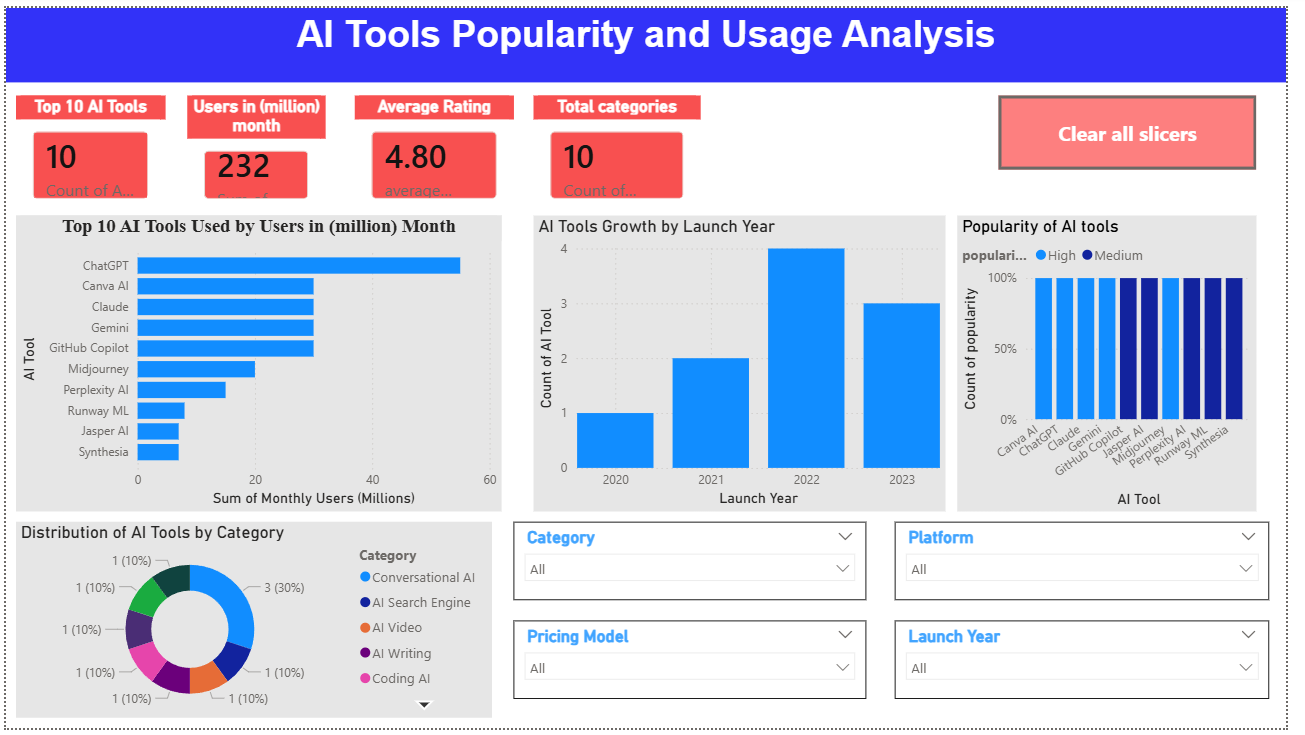

Layout of this report page (visuals, bound fields, positions):
{"tool":"powerbi","page":{"name":"Page 1","canvas":[1280,720],"ordinal":0},"visuals":[{"type":"textbox","box":[0,0,1280.3,74.1],"z":0},{"type":"cardVisual","title":"Top 10 AI Tools ","fields":{"Data":["CountNonNull(AI Tools Dataset.AI Tool)"]},"box":[9.6,87.8,149.6,120.8],"z":1000},{"type":"cardVisual","title":"Users in (million) month","fields":{"Data":["Sum(AI Tools Dataset.Monthly Users (Millions))"]},"box":[181.1,87.8,138.6,120.8],"z":2000},{"type":"cardVisual","title":"Average Rating","fields":{"Data":["AI Tools Dataset.average rating"]},"box":[348.5,87.8,159.2,120.8],"z":3000},{"type":"cardVisual","title":"Total categories","fields":{"Data":["CountNonNull(AI Tools Dataset.Category)"]},"box":[526.9,87.8,167.4,120.8],"z":4000},{"type":"clusteredBarChart","title":"Top 10 AI Tools Used by Users in (million) Month","fields":{"Category":["AI Tools Dataset.AI Tool"],"Y":["Sum(AI Tools Dataset.Monthly Users (Millions))"]},"box":[9.6,207.2,485.8,296.4],"z":5000},{"type":"donutChart","title":"Distribution of AI Tools by Category","fields":{"Category":["AI Tools Dataset.Category"],"Y":["CountNonNull(AI Tools Dataset.AI Tool)"]},"box":[9.6,513.2,476.2,196.2],"z":6000},{"type":"slicer","fields":{"Values":["AI Tools Dataset.Category"]},"box":[507.7,513.2,352.7,78.2],"z":6001},{"type":"slicer","fields":{"Values":["AI Tools Dataset.Platform"]},"box":[889.2,513.2,374.6,78.2],"z":6002},{"type":"slicer","fields":{"Values":["AI Tools Dataset.Pricing Model"]},"box":[507.7,612,352.7,78.2],"z":6003},{"type":"slicer","fields":{"Values":["AI Tools Dataset.Launch Year"]},"box":[889.2,612,374.6,78.2],"z":6004},{"type":"clusteredColumnChart","title":"AI Tools Growth by Launch Year","fields":{"Category":["AI Tools Dataset.Launch Year"],"Y":["CountNonNull(AI Tools Dataset.AI Tool)"]},"box":[526.9,207.2,411.7,296.4],"z":6005},{"type":"actionButton","box":[992.1,87.8,258,74.1],"z":6006},{"type":"hundredPercentStackedColumnChart","title":"Popularity of AI tools","fields":{"Y":["CountNonNull(AI Tools Dataset.popularity )"],"Category":["AI Tools Dataset.AI Tool"],"Series":["AI Tools Dataset.popularity "]},"box":[950.9,207.2,299.1,296.4],"z":6007}]}

Visuals, with their boxes in screenshot pixels (x1, y1, x2, y2), scaled from the page's 1280x720 canvas onto the 1305x735 screenshot:
textbox: locate(0, 0, 1304, 76)
"Top 10 AI Tools " cardVisual: locate(10, 90, 162, 213)
"Users in (million) month" cardVisual: locate(185, 90, 326, 213)
"Average Rating" cardVisual: locate(355, 90, 518, 213)
"Total categories" cardVisual: locate(537, 90, 708, 213)
"Top 10 AI Tools Used by Users in (million) Month" clusteredBarChart: locate(10, 212, 505, 514)
"Distribution of AI Tools by Category" donutChart: locate(10, 524, 495, 724)
slicer - AI Tools Dataset.Category: locate(518, 524, 877, 604)
slicer - AI Tools Dataset.Platform: locate(907, 524, 1288, 604)
slicer - AI Tools Dataset.Pricing Model: locate(518, 625, 877, 705)
slicer - AI Tools Dataset.Launch Year: locate(907, 625, 1288, 705)
"AI Tools Growth by Launch Year" clusteredColumnChart: locate(537, 212, 957, 514)
actionButton: locate(1011, 90, 1275, 165)
"Popularity of AI tools" hundredPercentStackedColumnChart: locate(969, 212, 1274, 514)
